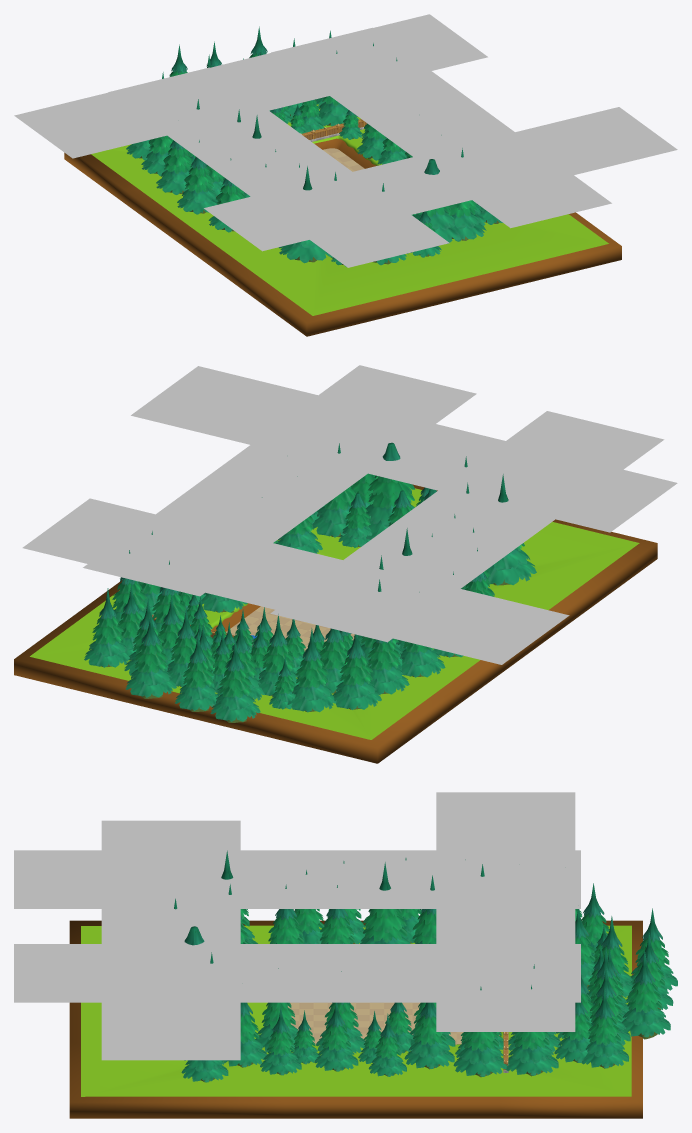
File: Test_Level_v4.fbx
The picture shows the model from 3 angles, top to bottom: view 1: azimuth 30°, elevation 25°; view 2: azimuth 150°, elevation 25°; view 3: azimuth 270°, elevation 25°; orthographic projection. The views are drawn at different scales.
Visible parts, largest first — view 1: segment bot, Clouds_Bottom.001, Clouds_Bottom, Clouds_Bottom.003, Clouds_Bottom.002, segment top, segment mid, tree_low.060, tree_low.069, tree_low.067, tree_low.068, tree_low.017 (+6 smaller); view 2: Clouds_Bottom.001, Clouds_Bottom, segment top, Clouds_Bottom.003, Clouds_Bottom.002, segment bot, tree_low.009, tree_low.053, tree_low.007, tree_low.037, tree_low.068, tree_low.018 (+22 smaller); view 3: Clouds_Bottom.001, Clouds_Bottom, segment bot, Clouds_Bottom.003, Clouds_Bottom.002, segment top, segment mid, tree_low.009, tree_low.018, tree_low.045, tree_low.055, tree_low.054 (+25 smaller).
Part boxes in pixels (x1=…): segment bot: x1=185, y1=212, x2=621, y2=336; Clouds_Bottom.001: x1=14, y1=14, x2=487, y2=158; Clouds_Bottom: x1=204, y1=107, x2=677, y2=251; Clouds_Bottom.003: x1=271, y1=27, x2=611, y2=228; Clouds_Bottom.002: x1=108, y1=67, x2=449, y2=267; segment top: x1=64, y1=104, x2=371, y2=225; segment mid: x1=155, y1=158, x2=382, y2=247; tree_low.060: x1=177, y1=140, x2=218, y2=214; tree_low.069: x1=156, y1=140, x2=192, y2=194; tree_low.067: x1=446, y1=200, x2=486, y2=241; tree_low.068: x1=413, y1=159, x2=460, y2=245; tree_low.017: x1=279, y1=166, x2=332, y2=263; Clouds_Bottom.001: x1=22, y1=498, x2=569, y2=664; Clouds_Bottom: x1=131, y1=366, x2=677, y2=532; segment top: x1=14, y1=582, x2=482, y2=763; Clouds_Bottom.003: x1=83, y1=365, x2=476, y2=596; Clouds_Bottom.002: x1=270, y1=411, x2=664, y2=642; segment bot: x1=275, y1=484, x2=657, y2=660; tree_low.009: x1=125, y1=612, x2=176, y2=698; tree_low.053: x1=332, y1=634, x2=381, y2=709; tree_low.007: x1=210, y1=638, x2=260, y2=722; tree_low.037: x1=287, y1=628, x2=336, y2=712; tree_low.068: x1=366, y1=442, x2=414, y2=539; tree_low.018: x1=84, y1=588, x2=129, y2=667; Clouds_Bottom.001: x1=436, y1=792, x2=575, y2=1031; Clouds_Bottom: x1=101, y1=820, x2=240, y2=1060; segment bot: x1=69, y1=920, x2=356, y2=1118; Clouds_Bottom.003: x1=14, y1=944, x2=580, y2=1002; Clouds_Bottom.002: x1=14, y1=850, x2=580, y2=908; segment top: x1=428, y1=920, x2=642, y2=1118; segment mid: x1=356, y1=920, x2=427, y2=1118; tree_low.009: x1=621, y1=950, x2=670, y2=1039; tree_low.018: x1=581, y1=987, x2=628, y2=1068; tree_low.045: x1=404, y1=1002, x2=454, y2=1069; tree_low.055: x1=453, y1=986, x2=507, y2=1077; tree_low.054: x1=506, y1=985, x2=558, y2=1076.
Size of the model in its own units: 8.82 by 1.94 by 9.27.
